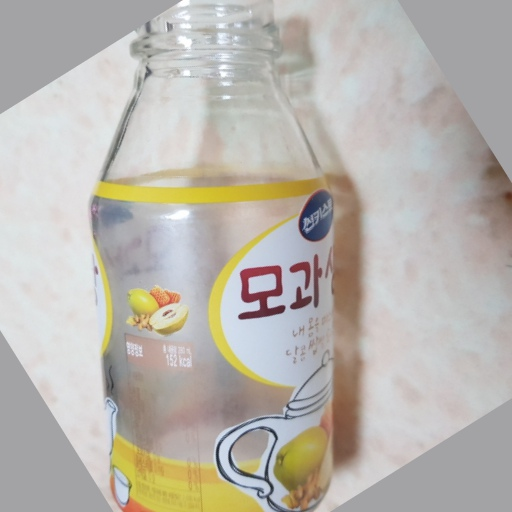Glass_4: (90, 1, 341, 512)
